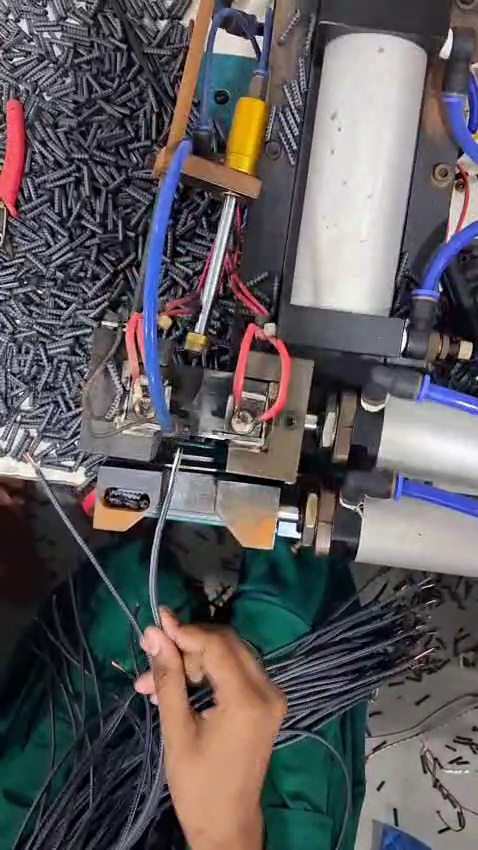machine: (73, 293, 315, 568)
peeled_wire: (160, 435, 198, 521)
